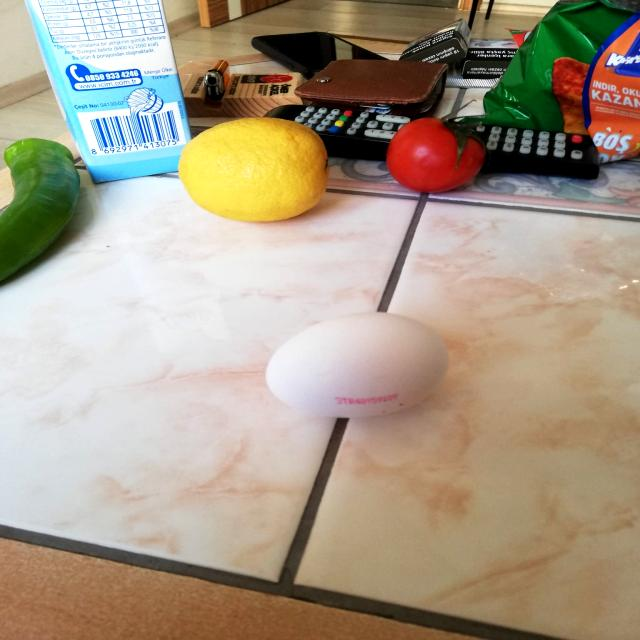egg: (257, 307, 451, 425)
green pepper: (0, 134, 85, 284)
lemon: (175, 116, 336, 224)
tomato: (380, 111, 494, 195)
